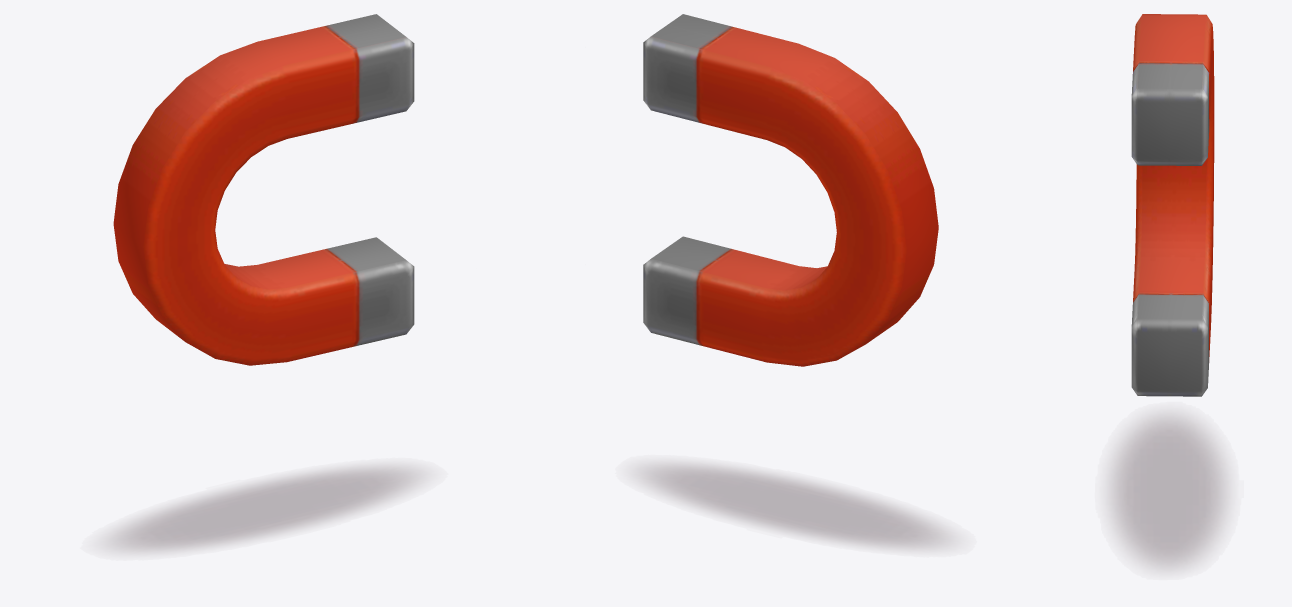
Rendered from CoinMagnet.prefab.glb.
3 renders of one model, left to right at view 1: azimuth 30°, elevation 25°; view 2: azimuth 150°, elevation 25°; view 3: azimuth 270°, elevation 25°, orthographic. The views are drawn at different scales.
Visible parts, largest first — view 1: Magnet, Shadow; view 2: Magnet, Shadow; view 3: Magnet, Shadow.
Boxes of the visible parts, bbox=[...] form: Magnet: bbox=[113, 14, 414, 365]; Shadow: bbox=[109, 466, 420, 551]; Magnet: bbox=[643, 14, 938, 366]; Shadow: bbox=[639, 464, 950, 548]; Magnet: bbox=[1131, 14, 1214, 396]; Shadow: bbox=[1110, 415, 1226, 568].
Bounding box in the file's own units: 0.9298 × 0.9822 × 0.4.
Materials: 3 (3 with a texture image).
